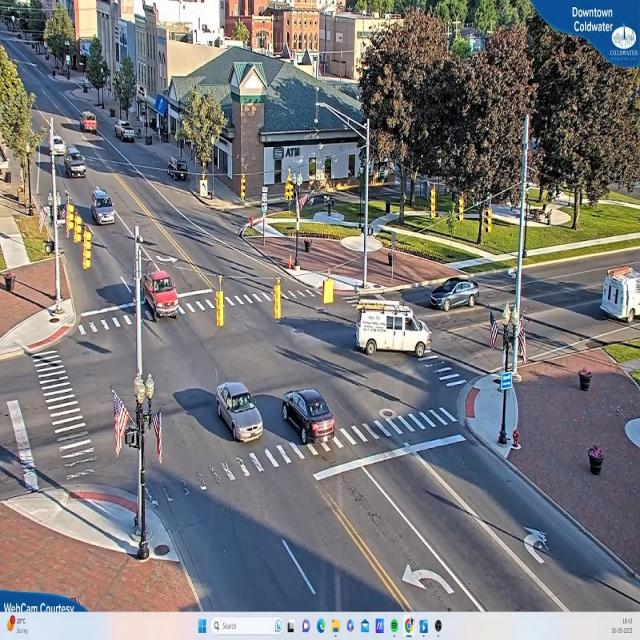car: (217, 382, 264, 443), (284, 389, 336, 444), (419, 280, 479, 312), (145, 273, 180, 322), (93, 203, 115, 225), (117, 121, 138, 143), (82, 112, 98, 134), (69, 164, 87, 178)
truck: (356, 304, 432, 358)
